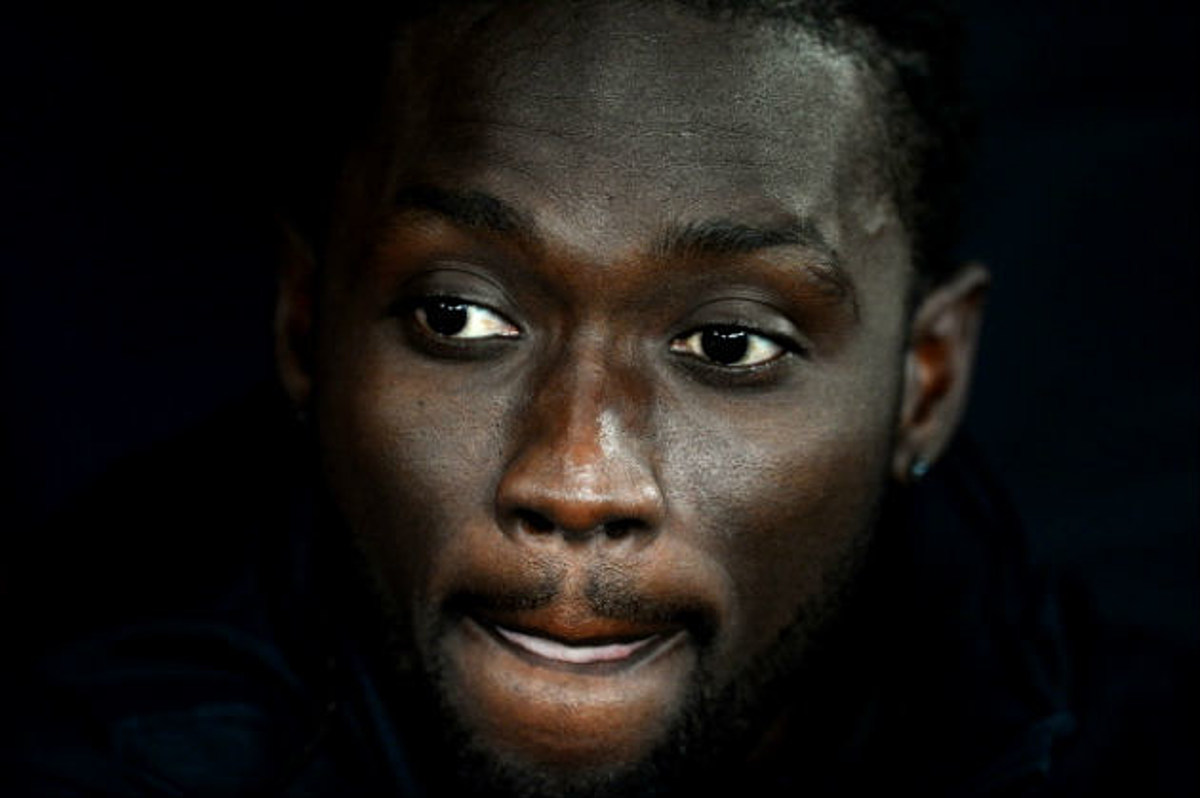human: (250, 1, 1002, 798)
